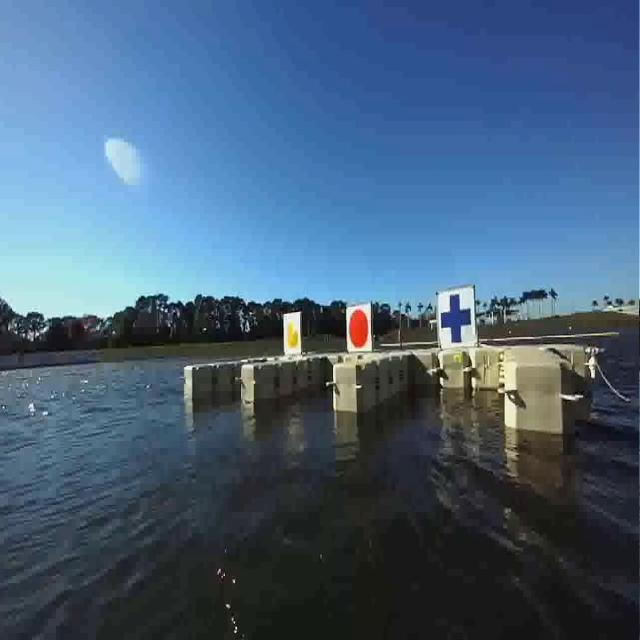blue-cross: (436, 284, 475, 345)
red-dot: (347, 301, 373, 354)
yellow-duck: (284, 314, 298, 358)
